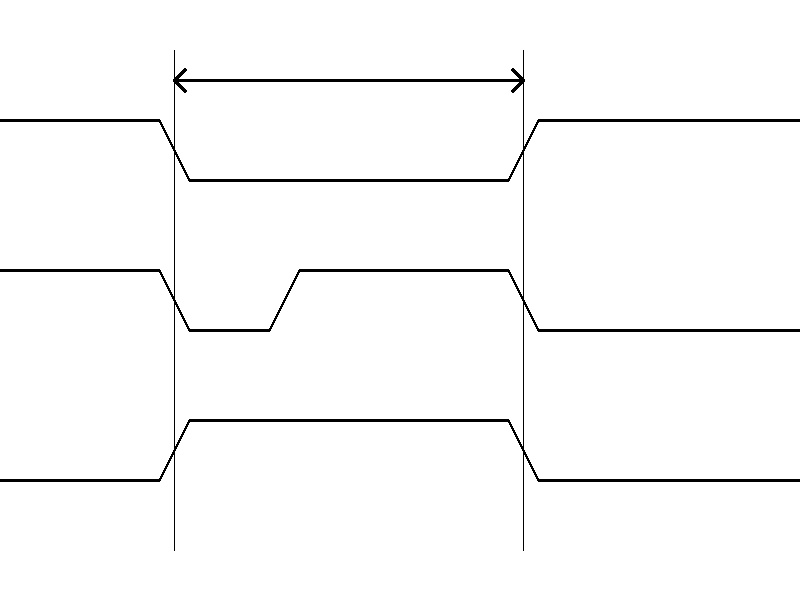double_arrow: (174, 65, 523, 95)
